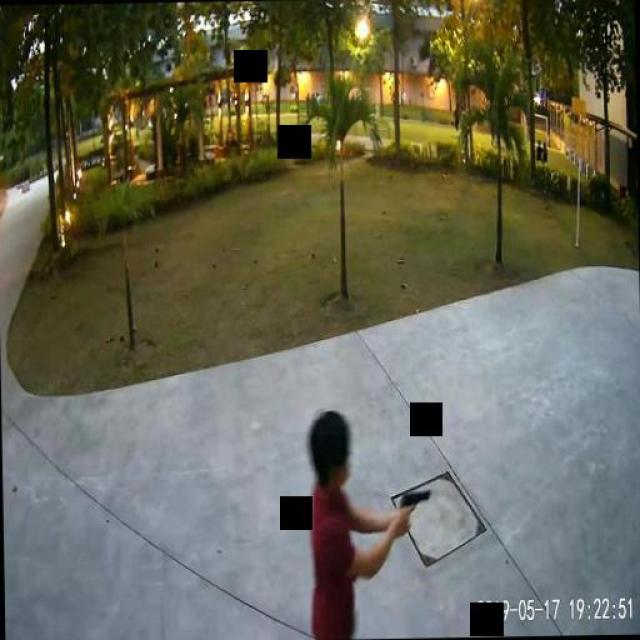gun: (398, 488, 432, 532)
